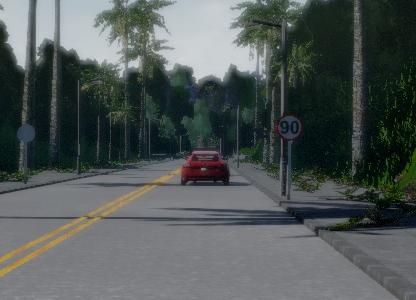Speed_90: (272, 110, 305, 143)
